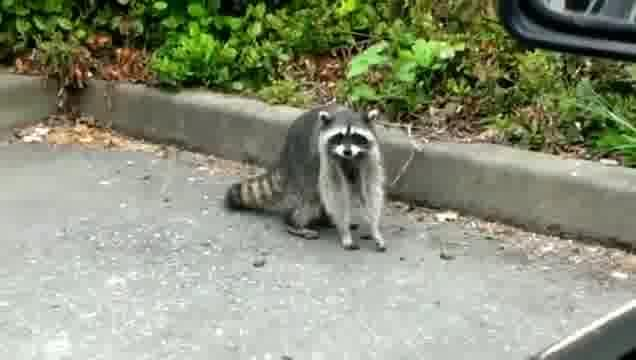raccoon: (217, 101, 403, 255)
